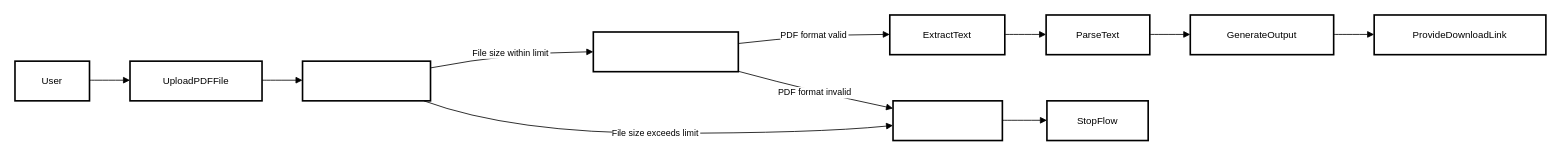
The diagram is 1560 pixels wide and 155 high, and some of its shapes have lost their labels. Each missing label, with the centre of its shape:
"CheckFileSize" goes at [366,80].
"NotifyUser" goes at [947,120].
"VerifyFileFormat" goes at [665,51].
